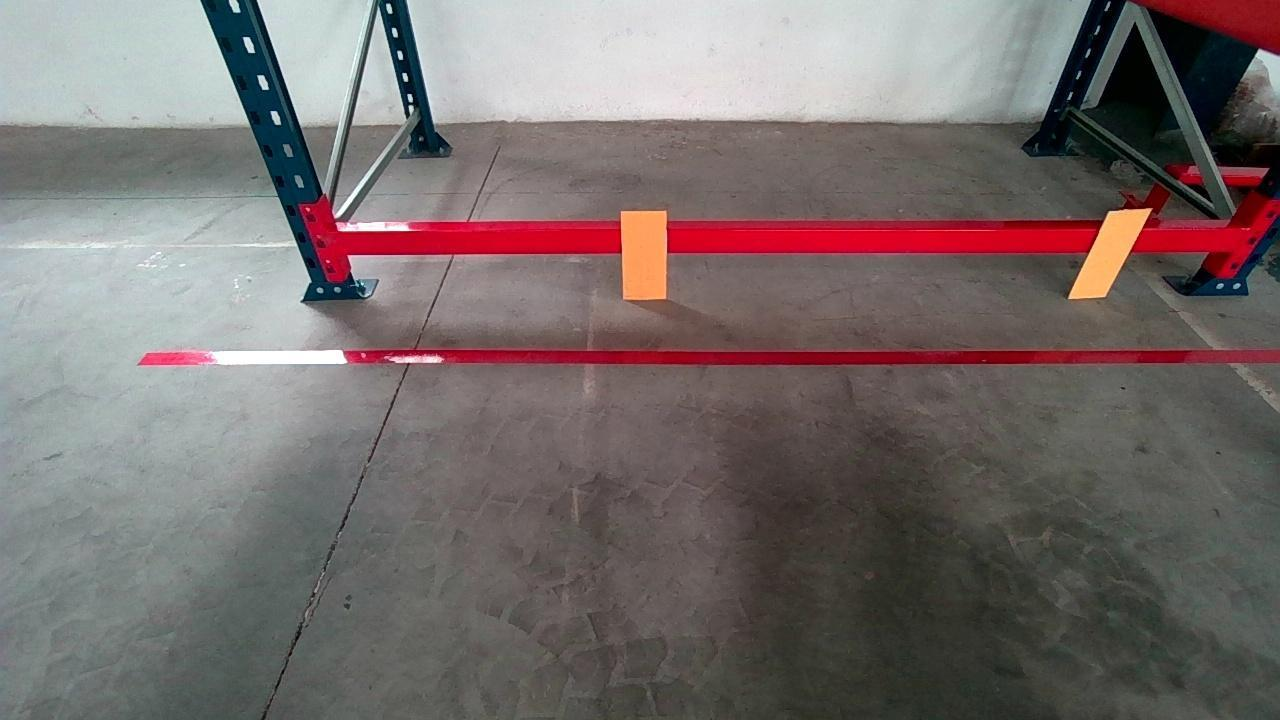h_rack: (338, 210, 1228, 259)
orange_strip: (1068, 209, 1151, 296), (622, 209, 668, 298)
red_line: (149, 345, 1271, 369)
